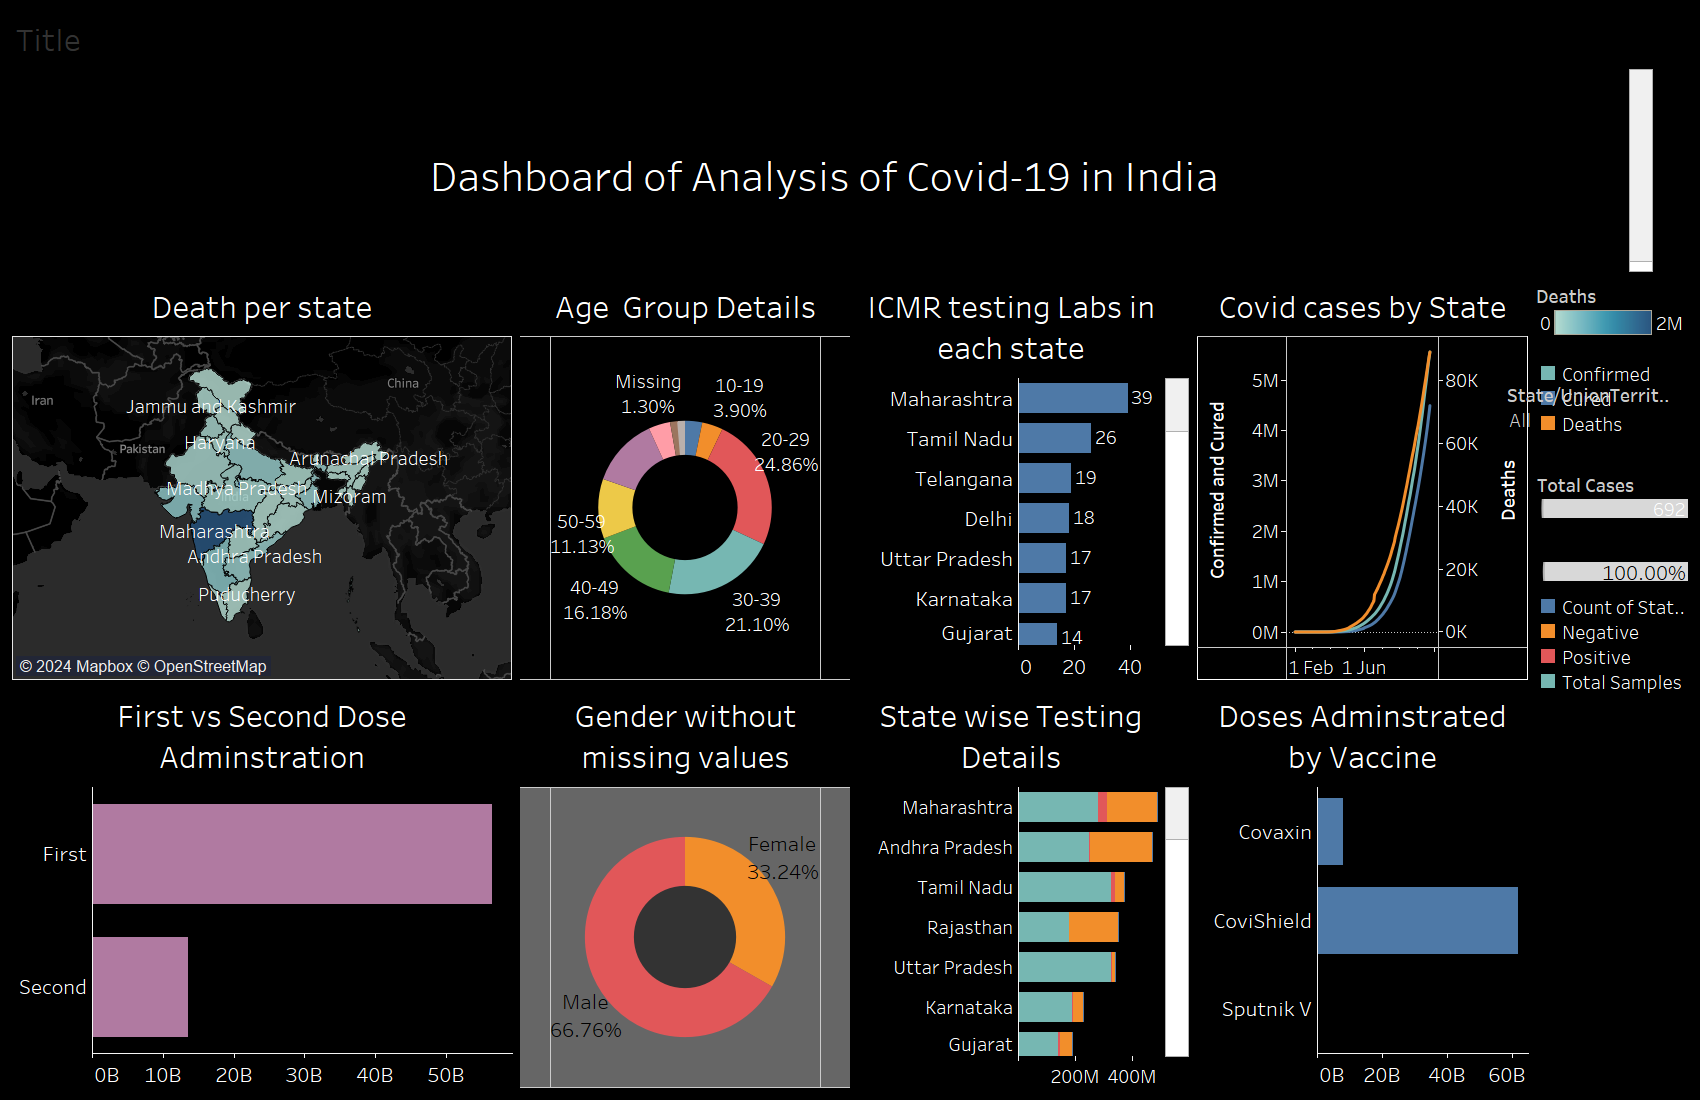

The dashboard page shown, as its layout file describes it:
{"tool":"tableau","page":{"name":"Dashboard 1","canvas":[1700,1100],"ordinal":0},"visuals":[{"type":"worksheet","title":"Title","mark":"Automatic","box":[8,8,1684,267]},{"type":"worksheet","title":"Total deaths/state","mark":"Automatic","box":[8,275,507.8,408.5]},{"type":"worksheet","title":"Age Group Details","mark":"Pie","rows":["Calculation_428123483504717831","Calculation_428123483504717831"],"box":[515.8,275,338.7,408.5]},{"type":"worksheet","title":"ICMR testing Labs in each state","mark":"Automatic","rows":["state"],"cols":["lab"],"box":[854.5,275,338.7,408.5]},{"type":"worksheet","title":"Covid Cases by state","mark":"Automatic","rows":["Deaths"],"cols":["Date"],"box":[1193.2,275,338.8,408.5]},{"type":"legend","title":"Total deaths/state","param":"[federated.1vja37c1airdhp1fgjwu7111xjsy].[sum:Deaths:qk]","box":[1532,275,160,81]},{"type":"legend","title":"Covid Cases by state","param":"[federated.1vja37c1airdhp1fgjwu7111xjsy].[:Measure Names]","box":[1532,356,160,83]},{"type":"filter","title":"Covid Cases by state","param":"[federated.1vja37c1airdhp1fgjwu7111xjsy].[none:State/UnionTerritory:nk]","box":[1507,381,168,70]},{"type":"legend","title":"Age Group Details","param":"[federated.0ff7g2o06wtxdn1b01cns1cqy3jl].[sum:TotalCases:qk]","box":[1532,439,160,59]},{"type":"legend","title":"Gender wihtout missing values","param":"[federated.0sr17ne1jayrbj14cdgmn0u7iryz].[pcto:cnt:gender:qk]","box":[1532,498,160,65]},{"type":"legend","title":"State wise Testing Details","param":"[federated.0sglpso1rmid9n19feci51ji5slw].[:Measure Names]","box":[1532,563,160,108]},{"type":"worksheet","title":"First vs Second Dose Administrated","mark":"Automatic","box":[8,683.5,507.8,408.5]},{"type":"worksheet","title":"Gender wihtout missing values","mark":"Pie","rows":["Calculation_1067916105667616769","Calculation_1067916105667616769"],"box":[515.8,683.5,338.7,408.5]},{"type":"worksheet","title":"State wise Testing Details","mark":"Automatic","rows":["State"],"box":[854.5,683.5,338.7,408.5]},{"type":"worksheet","title":"Doses adminstrated by vaccine","mark":"Automatic","box":[1193.2,683.5,338.8,408.5]}]}

Visuals, with their boxes in screenshot pixels (x1, y1, x2, y2), scaled from the page's 1700x1100 canvas onto the 1700x1100 screenshot:
"Title" worksheet: [x1=8, y1=8, x2=1692, y2=275]
"Total deaths/state" worksheet: [x1=8, y1=275, x2=516, y2=684]
"Age Group Details" worksheet (Pie marks): [x1=516, y1=275, x2=854, y2=684]
"ICMR testing Labs in each state" worksheet: [x1=854, y1=275, x2=1193, y2=684]
"Covid Cases by state" worksheet: [x1=1193, y1=275, x2=1532, y2=684]
"Total deaths/state" legend: [x1=1532, y1=275, x2=1692, y2=356]
"Covid Cases by state" legend: [x1=1532, y1=356, x2=1692, y2=439]
"Covid Cases by state" filter: [x1=1507, y1=381, x2=1675, y2=451]
"Age Group Details" legend: [x1=1532, y1=439, x2=1692, y2=498]
"Gender wihtout missing values" legend: [x1=1532, y1=498, x2=1692, y2=563]
"State wise Testing Details" legend: [x1=1532, y1=563, x2=1692, y2=671]
"First vs Second Dose Administrated" worksheet: [x1=8, y1=684, x2=516, y2=1092]
"Gender wihtout missing values" worksheet (Pie marks): [x1=516, y1=684, x2=854, y2=1092]
"State wise Testing Details" worksheet: [x1=854, y1=684, x2=1193, y2=1092]
"Doses adminstrated by vaccine" worksheet: [x1=1193, y1=684, x2=1532, y2=1092]
